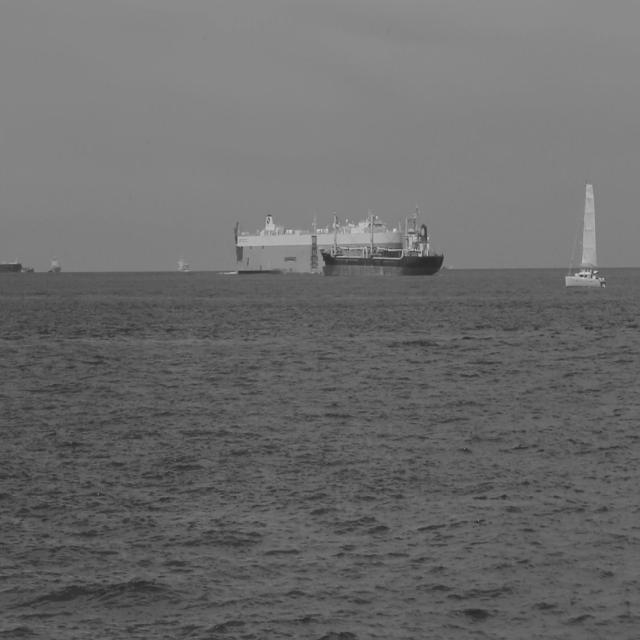ship: (232, 208, 404, 276), (318, 200, 446, 278), (563, 178, 606, 288), (0, 256, 22, 274), (48, 252, 62, 274), (21, 263, 35, 274)
